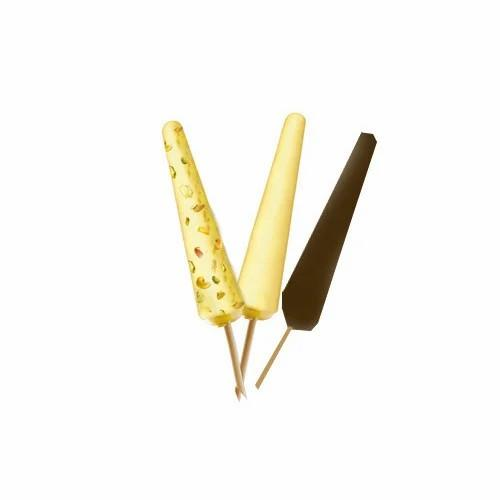Kulfi: (284, 133, 375, 330), (161, 122, 240, 320), (239, 113, 306, 317)
